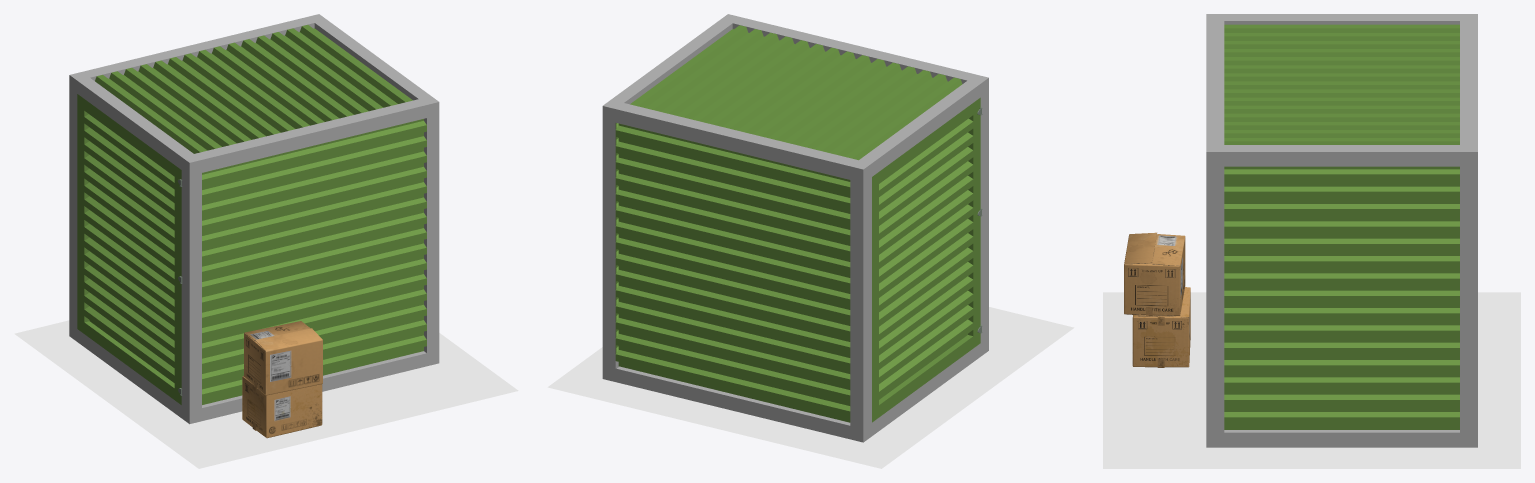
3 renders of one model, left to right at view 1: azimuth 30°, elevation 25°; view 2: azimuth 150°, elevation 25°; view 3: azimuth 270°, elevation 25°, orthographic. The views are drawn at different scales.
Visible parts, largest first — view 1: Cube.027, Cube.024, Cube.025, Plane, Cube.030, Cube.029, Object_9, Object_10; view 2: Cube.028, Cube.024, Cube.025, Cube.030, Plane, Cube.029; view 3: Cube.026, Cube.025, Cube.024, Plane, Object_9, Object_10.
Boxes of the visible parts, box(x1,y1,x2,y2) form: Cube.027: box(202, 119, 426, 404); Cube.024: box(69, 14, 439, 424); Cube.025: box(95, 25, 412, 153); Plane: box(14, 320, 518, 468); Cube.030: box(84, 114, 174, 382); Cube.029: box(77, 94, 181, 404); Object_9: box(244, 321, 322, 395); Object_10: box(242, 375, 322, 438); Cube.028: box(615, 123, 850, 422); Cube.024: box(602, 14, 988, 442); Cube.025: box(630, 25, 962, 160); Cube.030: box(879, 118, 973, 399); Plane: box(547, 307, 1074, 468); Cube.029: box(872, 97, 980, 422); Cube.026: box(1224, 166, 1459, 429); Cube.025: box(1224, 24, 1459, 144); Cube.024: box(1206, 14, 1477, 447); Plane: box(1103, 292, 1520, 468); Object_9: box(1124, 232, 1185, 315); Object_10: box(1132, 287, 1190, 367).
Bounding box in the file's own units: 3.08 × 2.42 × 3.08.
8 materials, 3 textured.
